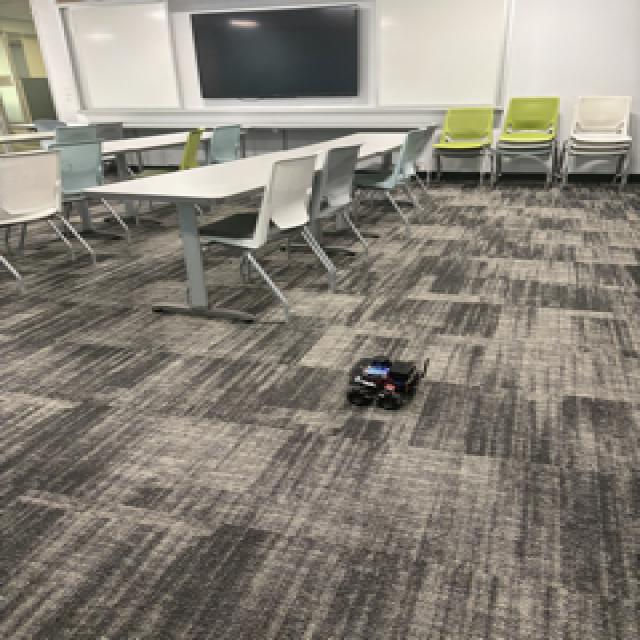ArduinoCar3: (348, 348, 434, 408)
